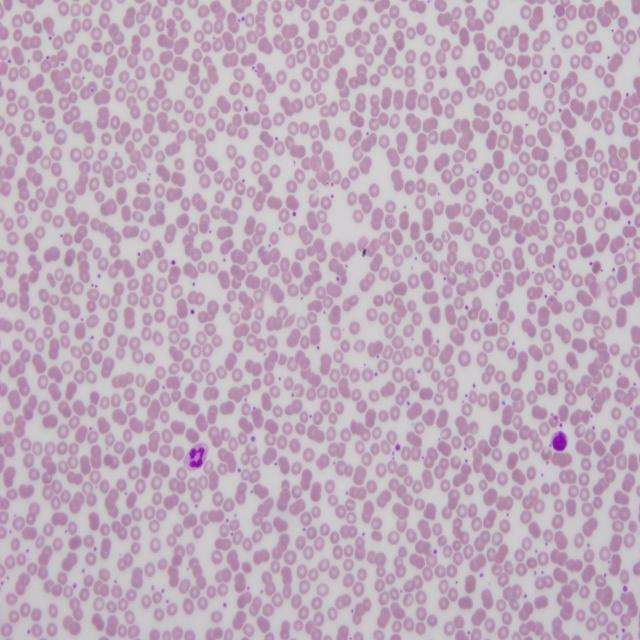cell: (184, 443, 209, 470)
